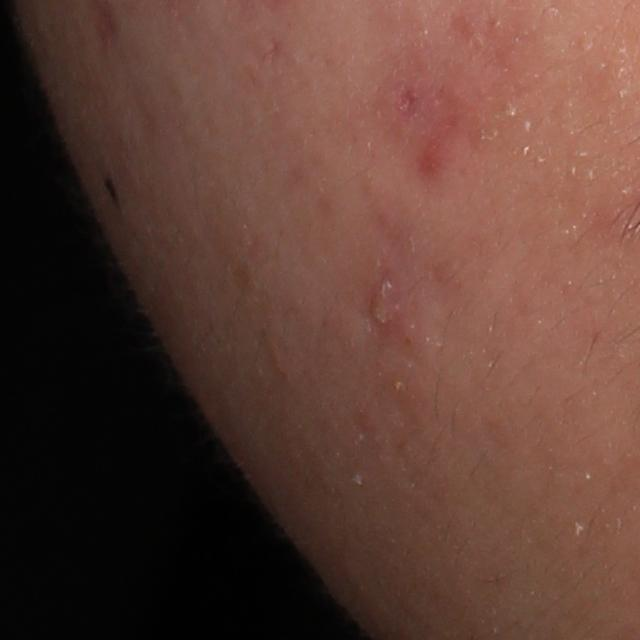atrophic_scar: (397, 85, 421, 115)
